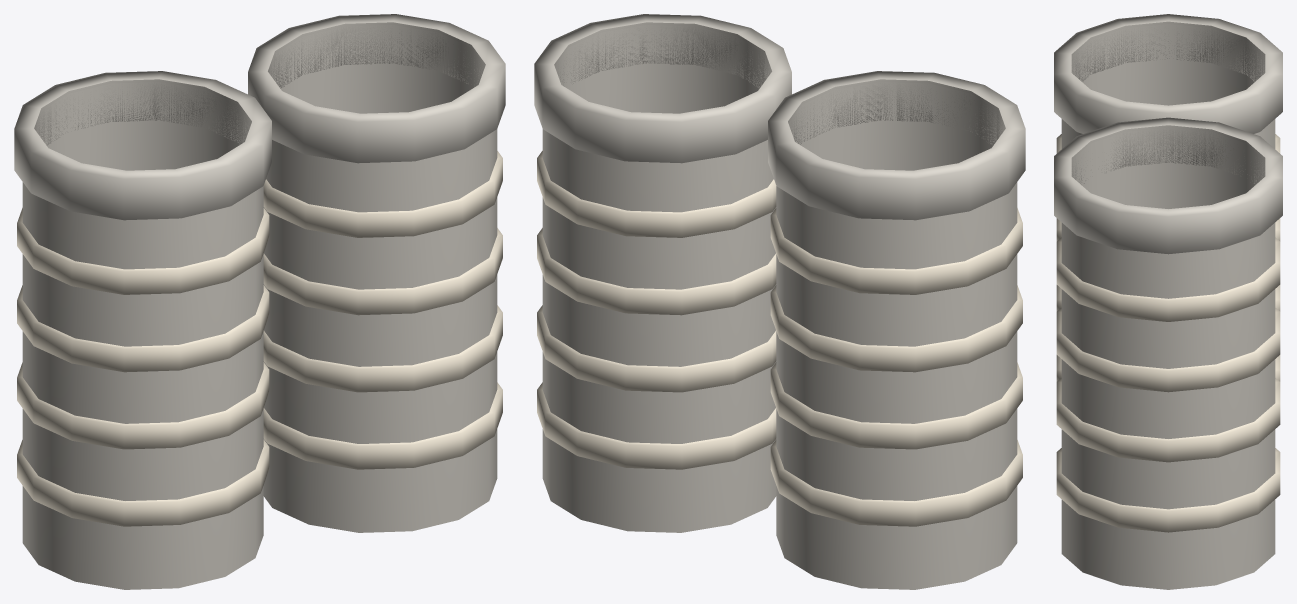
The model's file is patterned_stockings.glb.
The picture shows the model from 3 angles, left to right: view 1: azimuth 30°, elevation 25°; view 2: azimuth 150°, elevation 25°; view 3: azimuth 270°, elevation 25°; orthographic projection. The views are drawn at different scales.
Visible parts, largest first — view 1: patterned_stockings_LegL, patterned_stockings_LegR; view 2: patterned_stockings_LegL, patterned_stockings_LegR; view 3: patterned_stockings_LegR, patterned_stockings_LegL.
Part boxes in pixels (x1,y1,x2,y2): patterned_stockings_LegL: [14, 71, 271, 589]; patterned_stockings_LegR: [248, 14, 505, 532]; patterned_stockings_LegL: [768, 71, 1025, 589]; patterned_stockings_LegR: [534, 14, 791, 532]; patterned_stockings_LegR: [1054, 117, 1282, 589]; patterned_stockings_LegL: [1054, 14, 1282, 381].
Bounding box in the file's own units: 0.372 × 0.322 × 0.1774.
